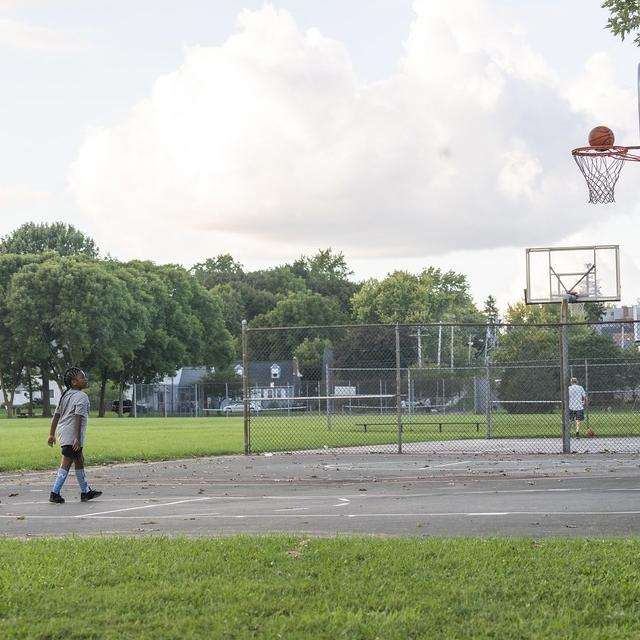basketball: (590, 122, 614, 148), (584, 428, 595, 438)
hoop: (572, 146, 629, 203), (569, 302, 587, 318)
